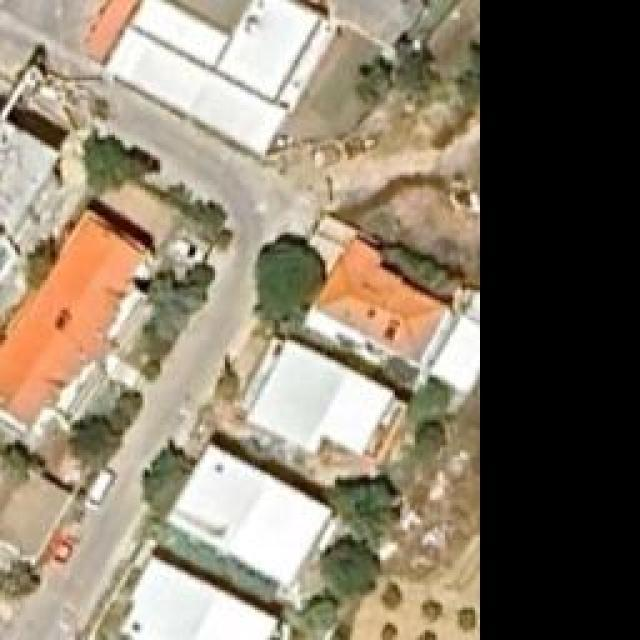Tree: (250, 235, 325, 315), (333, 473, 405, 537), (318, 538, 381, 593), (70, 418, 116, 467), (397, 50, 442, 95), (83, 130, 123, 168), (355, 60, 390, 101), (458, 608, 478, 633), (383, 583, 403, 608), (423, 600, 443, 623), (380, 622, 398, 640)
